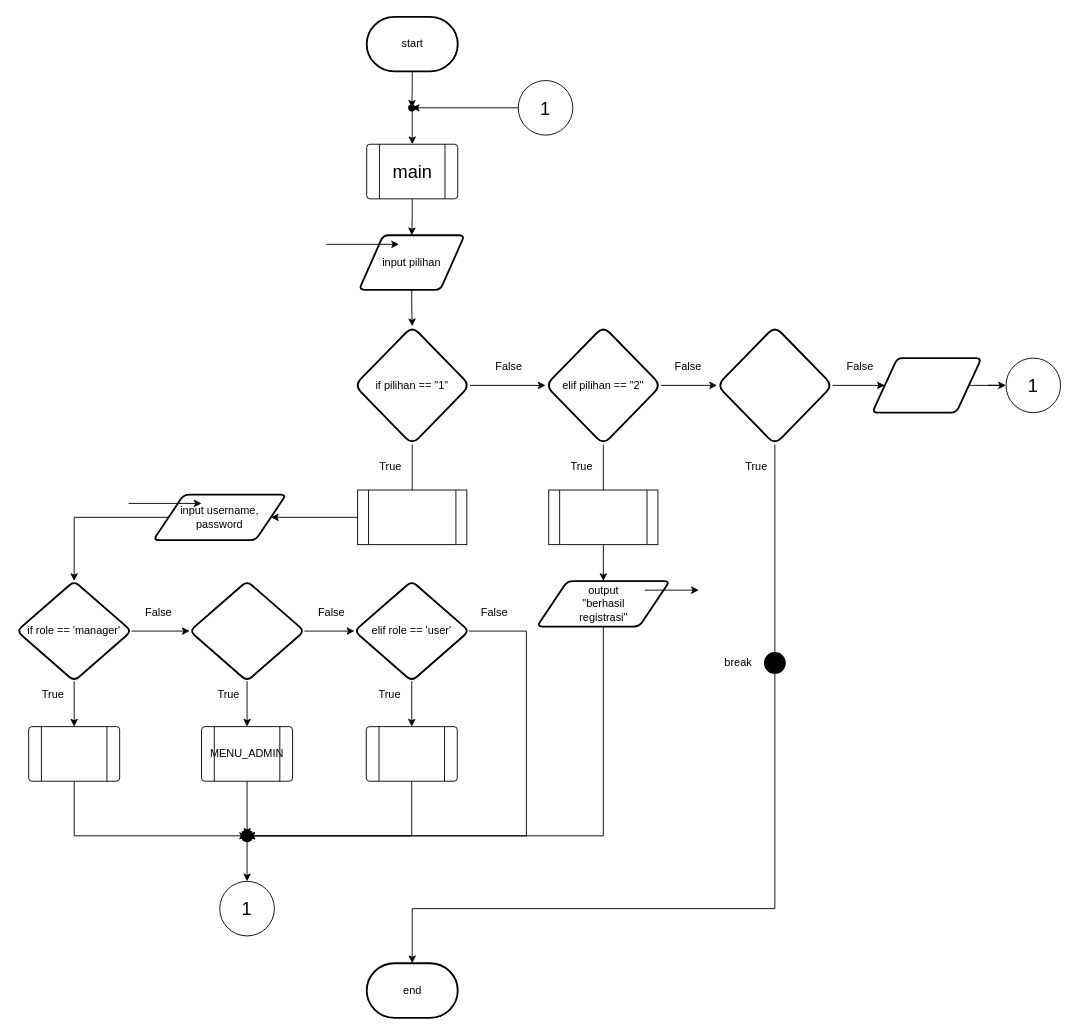
The diagram is 1077 pixels wide and 1034 high, and some of its shapes have lost their labels. The centre of each missing label's shape, as x and y in pixels:
elif pilihan == "3": point 774,385
elif role == 'admin': point 246,631
LOGIN: point 412,517
MENU_ MANAGER: point 74,753
MENU_USER: point 411,753
output "input tidak valid": point 926,385
REGISTER: point 603,517
